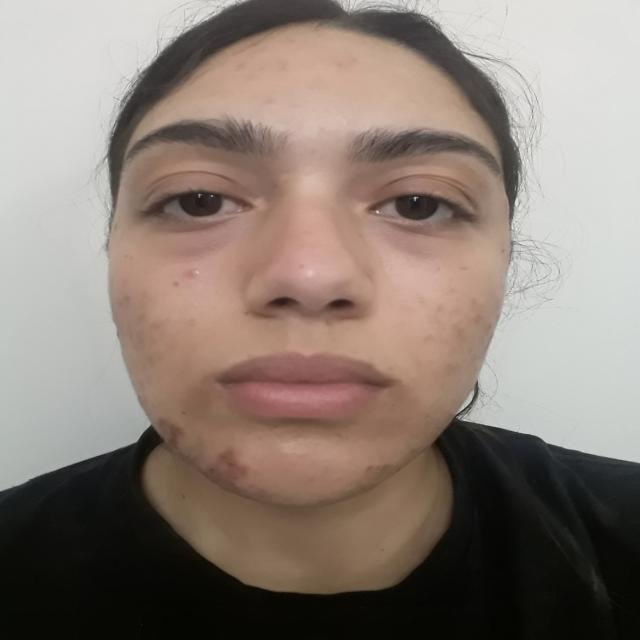Acne: (217, 448, 253, 479), (165, 416, 189, 446), (366, 463, 395, 476), (466, 295, 488, 311), (141, 285, 161, 300), (418, 328, 438, 343), (234, 58, 254, 72), (451, 322, 467, 339), (186, 267, 206, 280), (404, 444, 421, 459), (275, 61, 292, 74), (134, 315, 152, 327), (330, 59, 346, 72), (206, 466, 221, 479), (258, 95, 277, 105), (170, 279, 187, 290), (432, 302, 447, 314), (473, 312, 483, 328), (346, 53, 360, 64), (148, 320, 162, 331), (422, 412, 433, 422), (185, 317, 197, 326), (284, 36, 297, 43), (122, 294, 132, 303)
